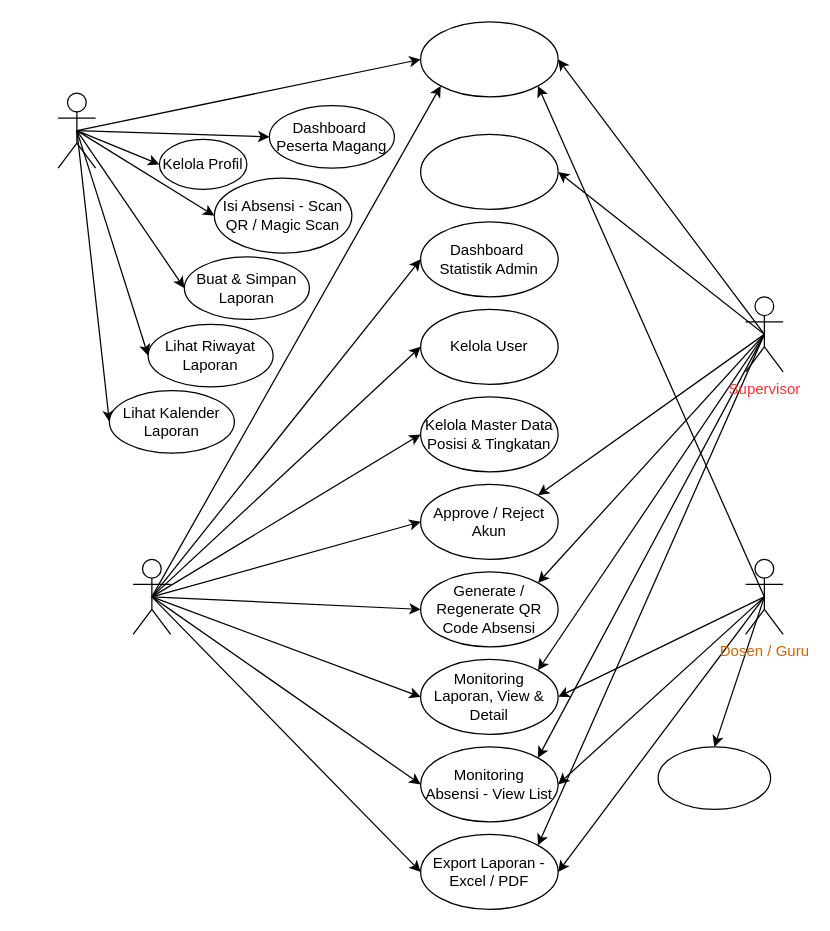
The diagram is 830 pixels wide and 931 high, and some of its shapes have lost their labels. Each missing label, with the centre of its shape:
"Admin" belongs at (x=151, y=596).
"Dashboard Dosen / Guru" belongs at (x=714, y=777).
"Dashboard Supervisor" belongs at (x=488, y=171).
"Login / Logout Daftar" belongs at (x=488, y=59).
"Peserta Magang" belongs at (x=76, y=130).
